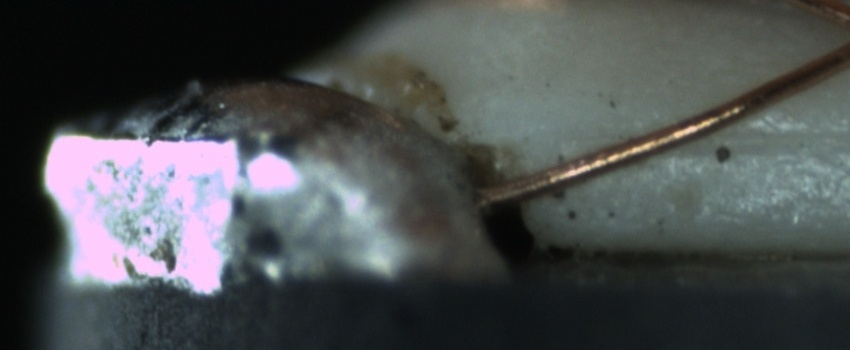DL: (612, 104, 845, 172)
